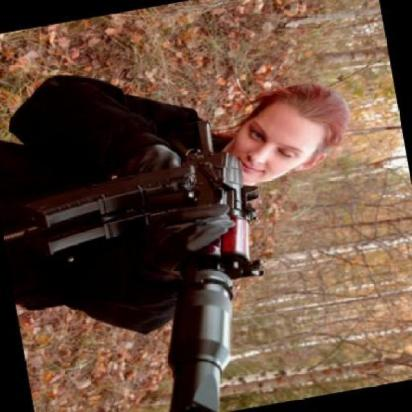Gun: (56, 123, 250, 412)
